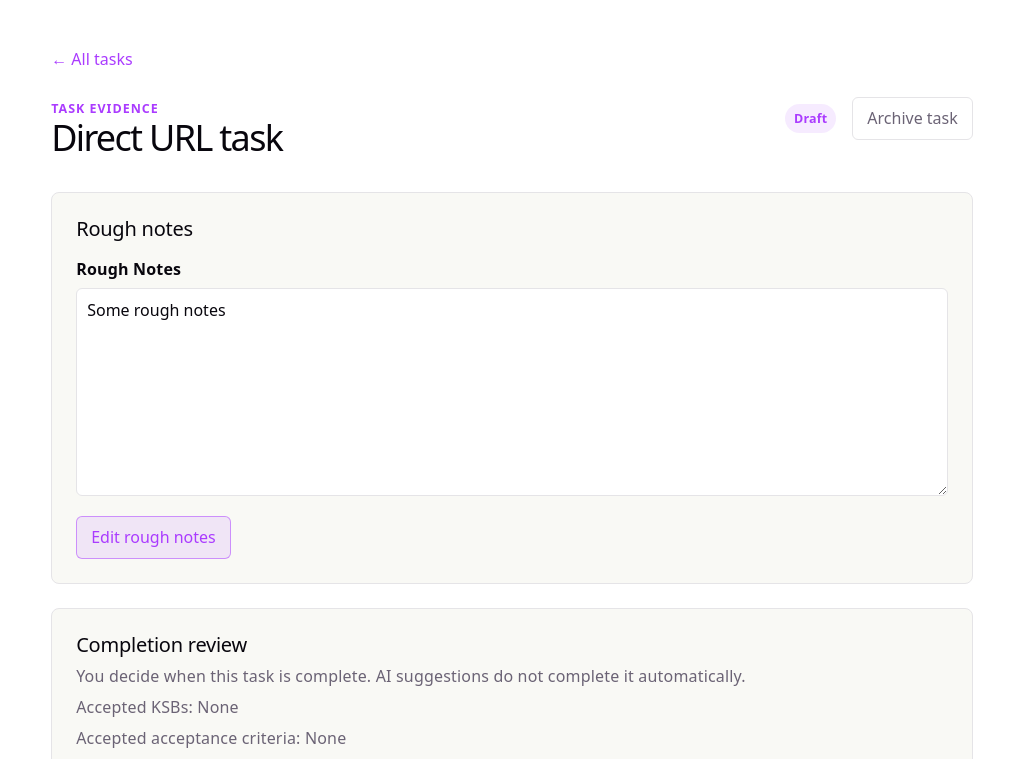
it: App routes › saves edited rough notes from the task detail page
This screenshot has width=1024, height=759.
Click the button "Edit rough notes".
click(154, 538)  # box top-left (76, 516), bottom-right (231, 559)
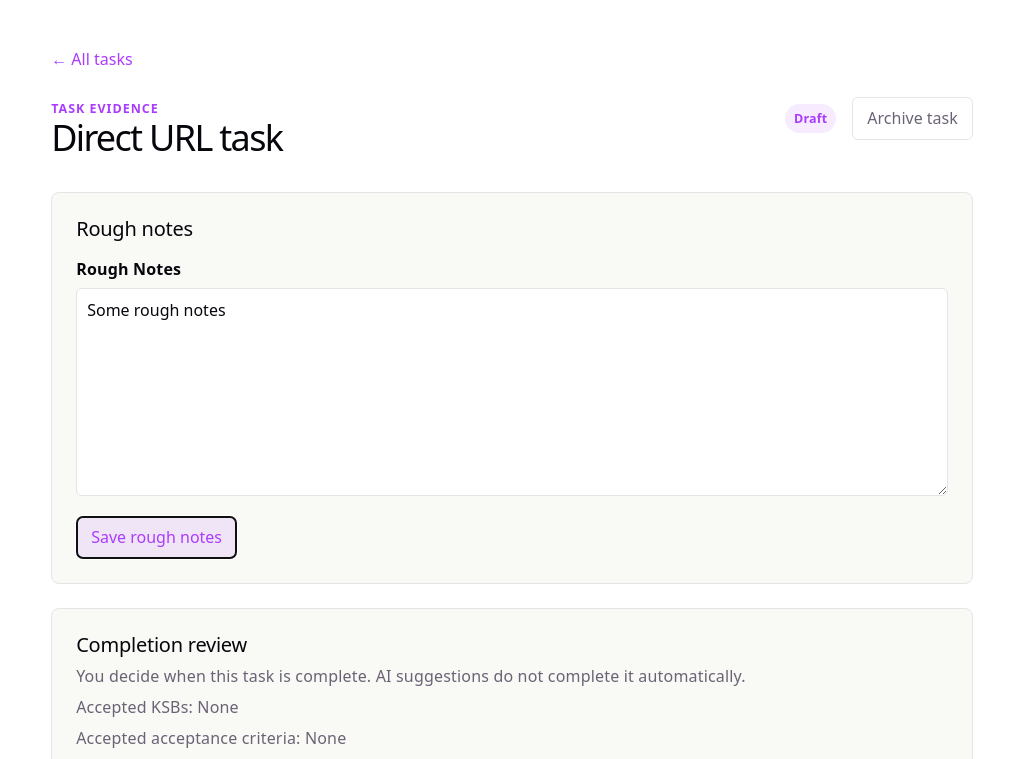
Replace the text in the text box labelled "Rough notes" with "Saved rough notes" at (512,392), box top-left (76, 288), bottom-right (948, 496)
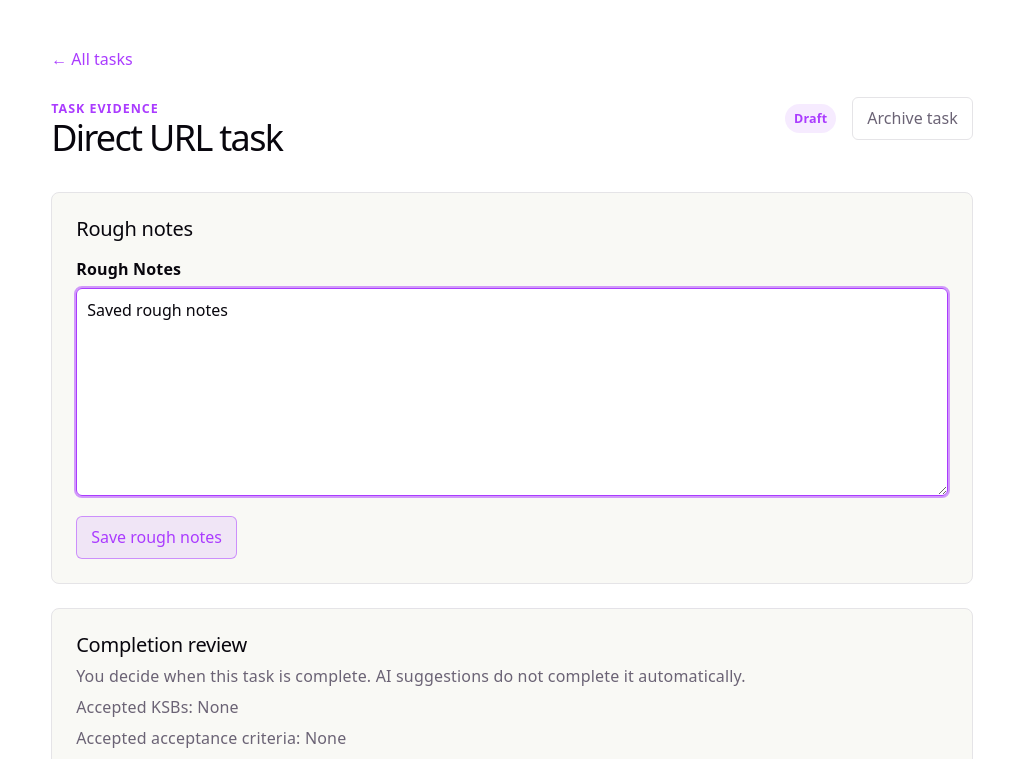
Click the button "Save rough notes".
click(157, 538)  # box top-left (76, 516), bottom-right (237, 559)
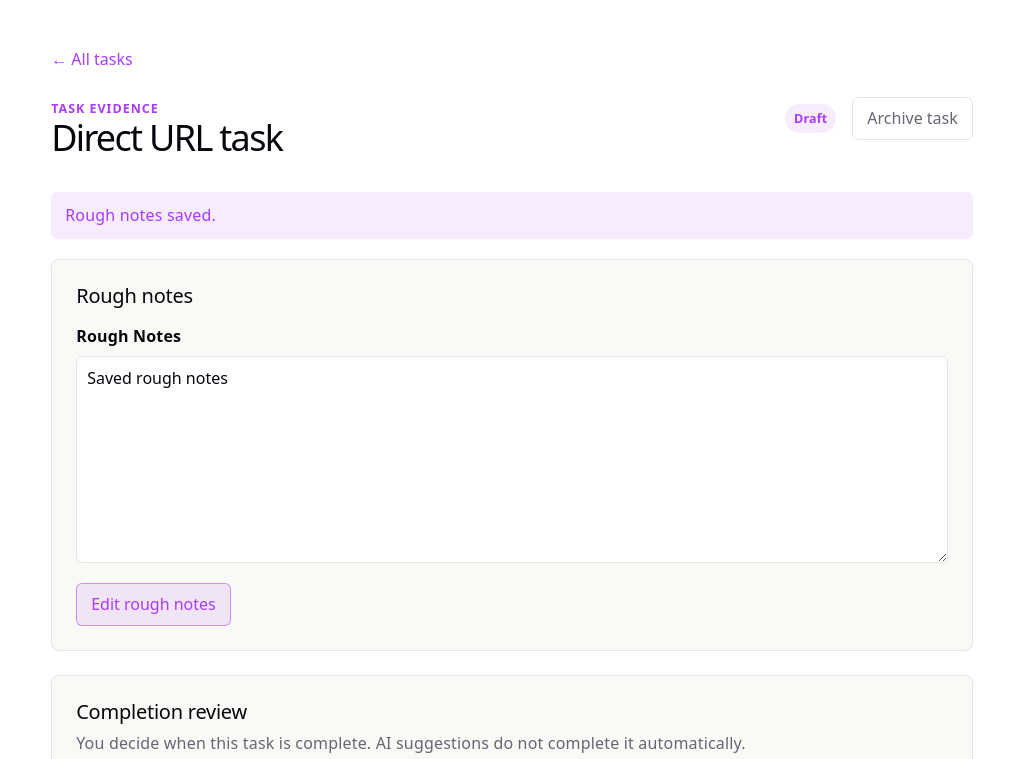
Expected: the text "Rough notes saved." is shown, top-left (51, 192), bottom-right (973, 239)
